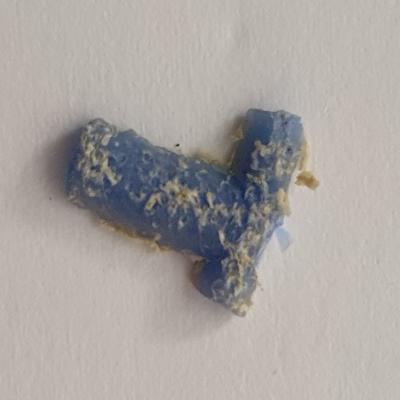plastic: (62, 105, 311, 324)
